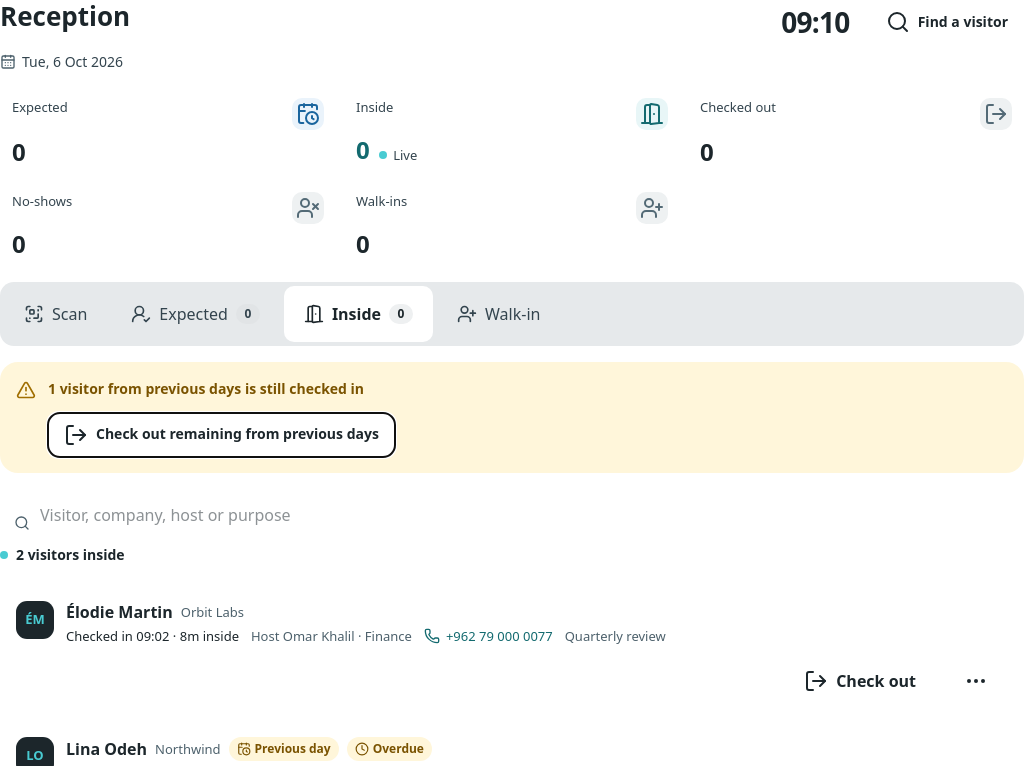
Scenario: Inside tab › checks out everyone left from previous days with one reason (bulk), saying who and when first
Check: the text "2 visitors inside" is shown, box [0, 545, 125, 564]
Press Enter
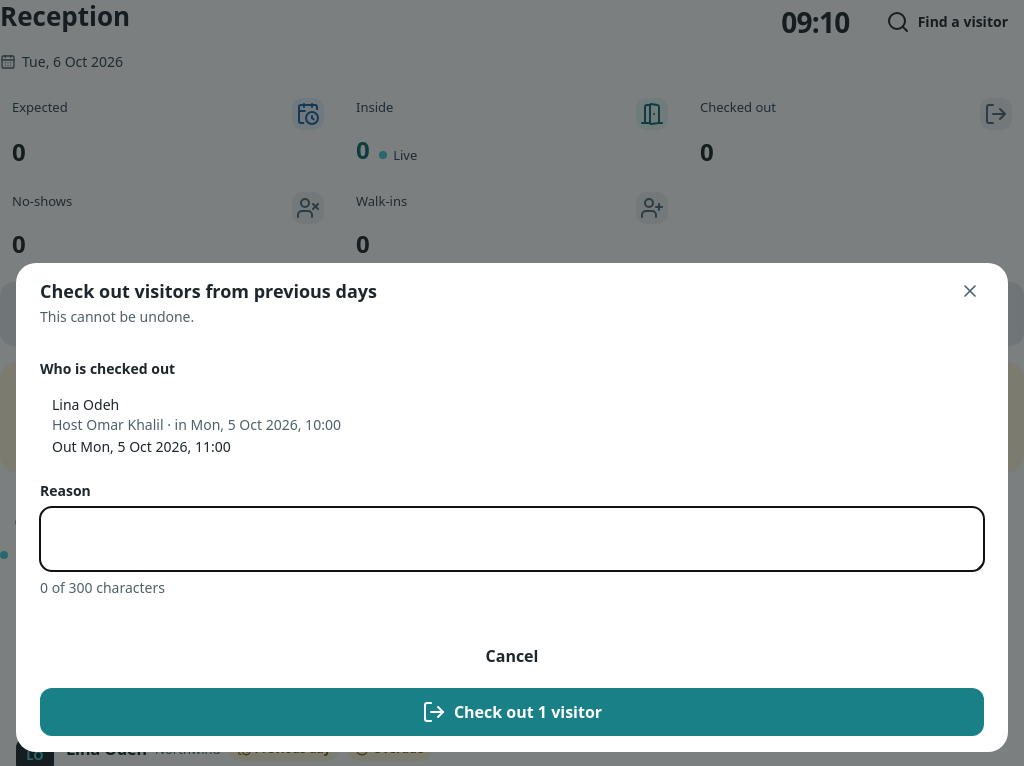
Check: the element "Who is checked out" shows "Lina Odeh", box [52, 395, 119, 414]
Check: the element "Who is checked out" shows "Host Omar Khalil · in Mon, 5 Oct 2026, 10:00", box [52, 415, 341, 434]
Check: the element "Who is checked out" shows "Out Mon, 5 Oct 2026, 11:00", box [52, 437, 231, 456]
Click the button "Check out 1 visitor" at x=512, y=712, box [40, 688, 984, 736]
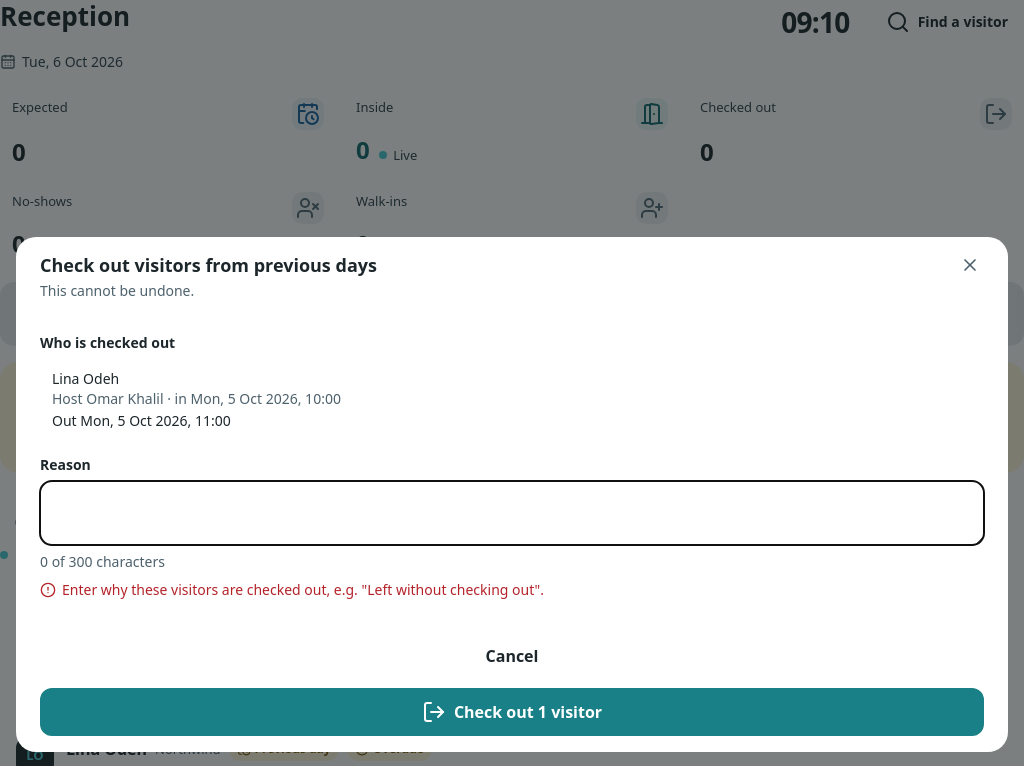
Check: the text "Enter why these visitors are checked out" is shown, box [62, 580, 544, 599]
Type "Building closed overnight" into the text box labelled "Reason" at x=512, y=513, box [40, 481, 984, 545]
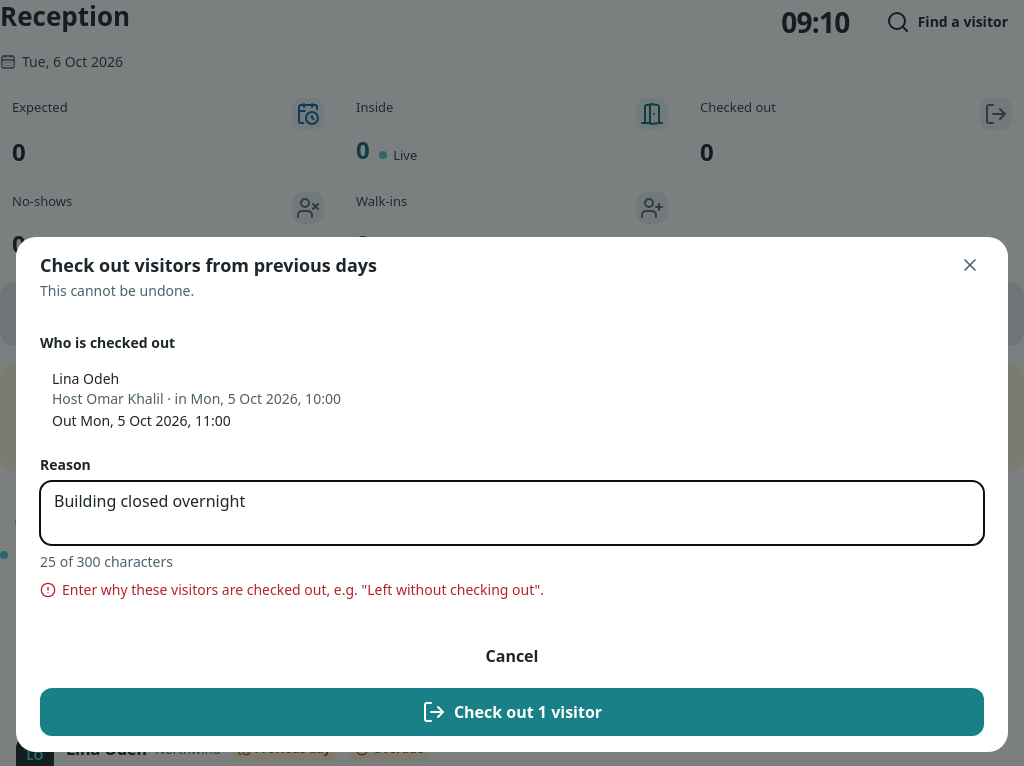
Click the button "Check out 1 visitor" at x=512, y=712, box [40, 688, 984, 736]
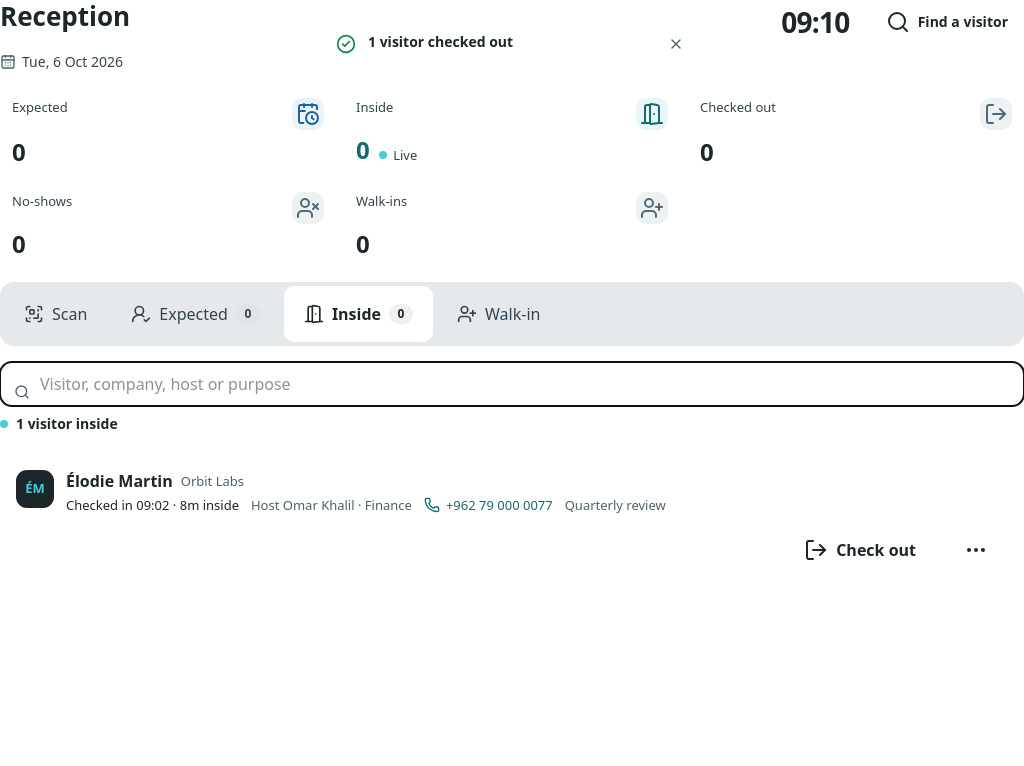
Check: the dialog is gone
Check: the text "1 visitor checked out" is shown, box [368, 32, 513, 51]
Check: the button "Check out remaining from previous days" is gone
